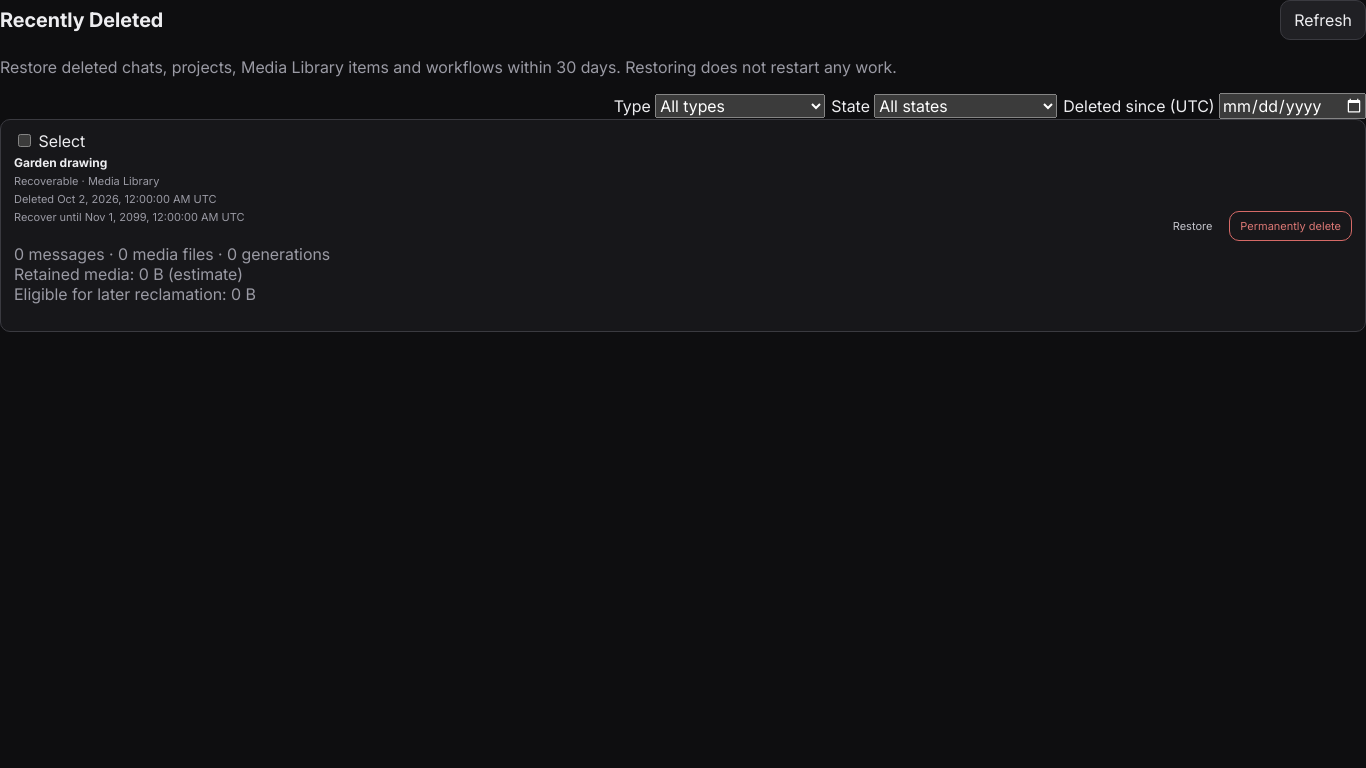
filters by type before requesting a page and describes library restoration
The image size is (1366, 768).
Expected: the text "Recoverable · Media Library" is shown, [14,174,159,188]
Select "Media Library items" in the dropdown labelled "Type" at (740, 106), box [655,94,825,118]
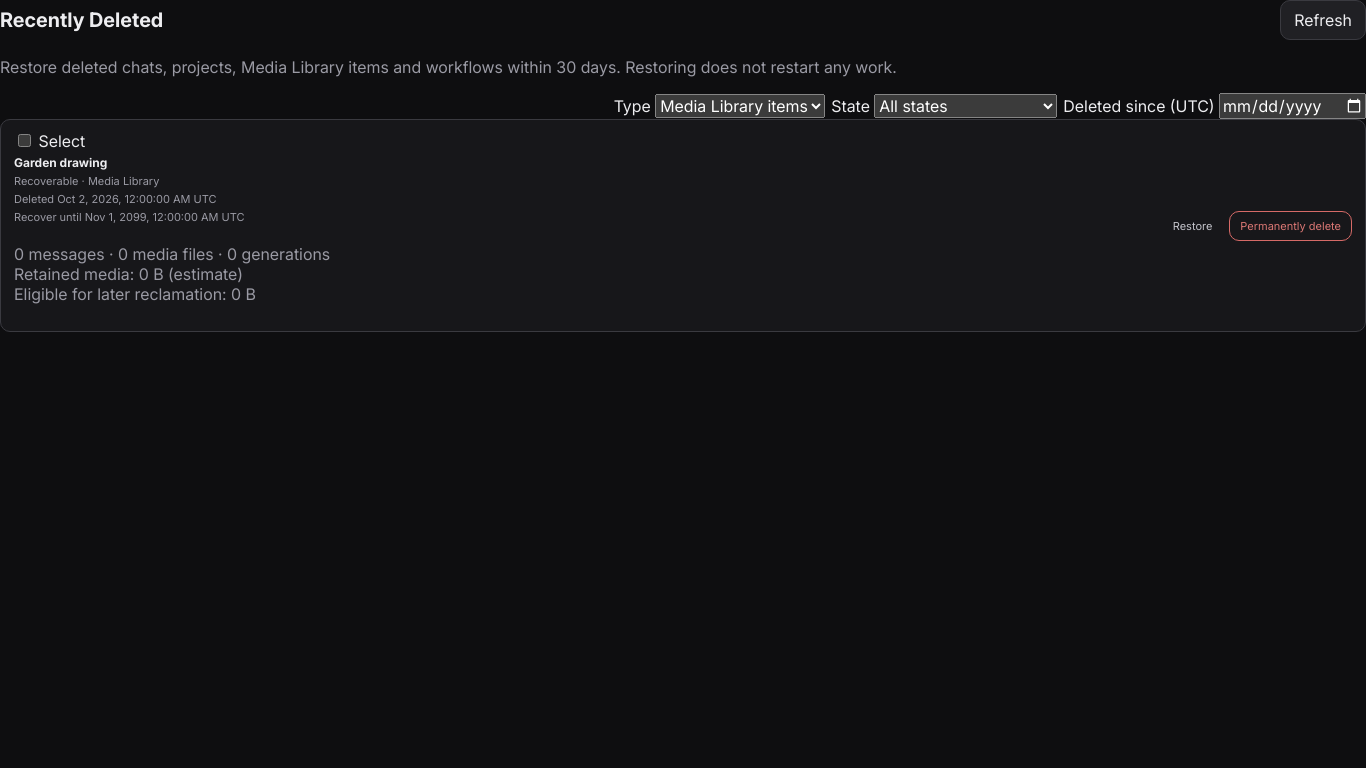
Click the button with aria-label "Restore Garden drawing" at (1193, 226), box [1162,210,1223,240]
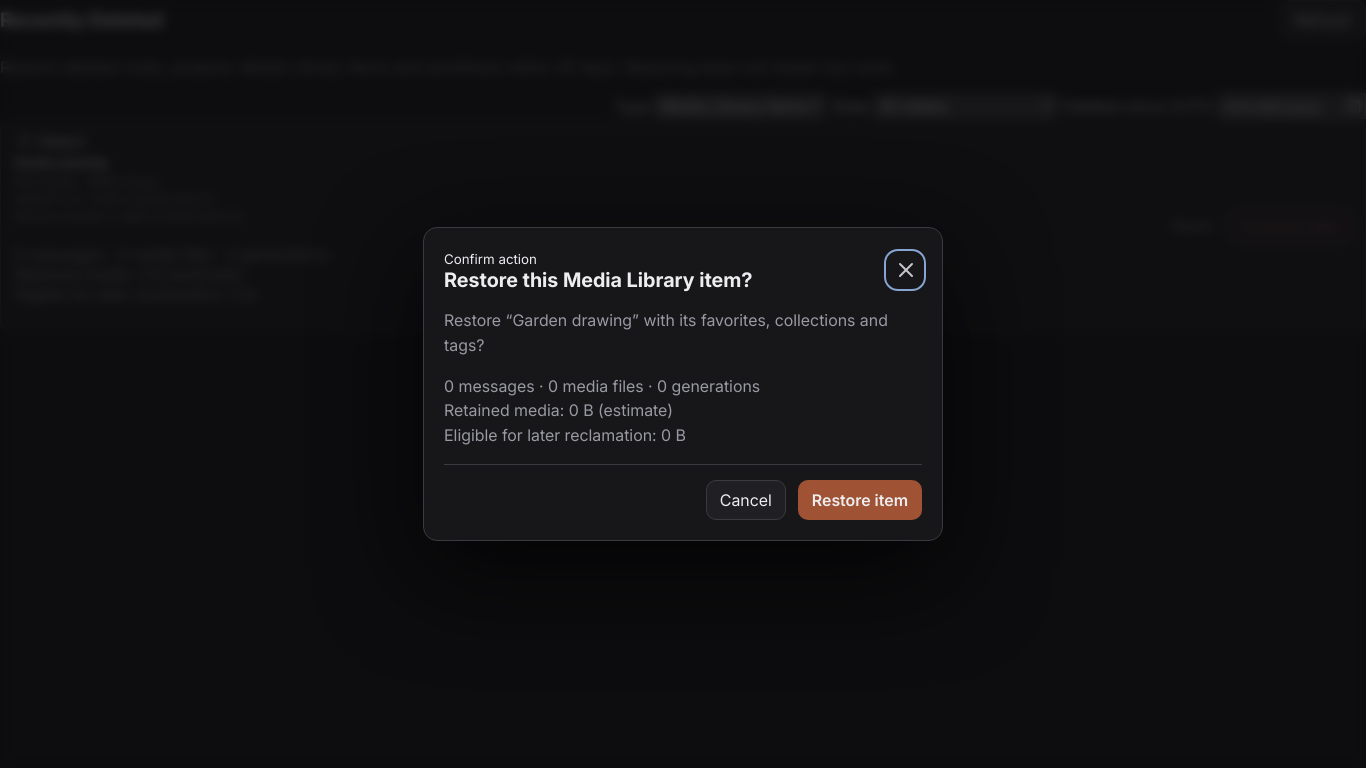
Expected: the heading "Restore this Media Library item?" is shown, [444,268,753,292]
Expected: the text "with its favorites, collections and tags" is shown, [444,310,888,355]
Click the button "Restore item" at (860, 500), box [798,480,922,520]
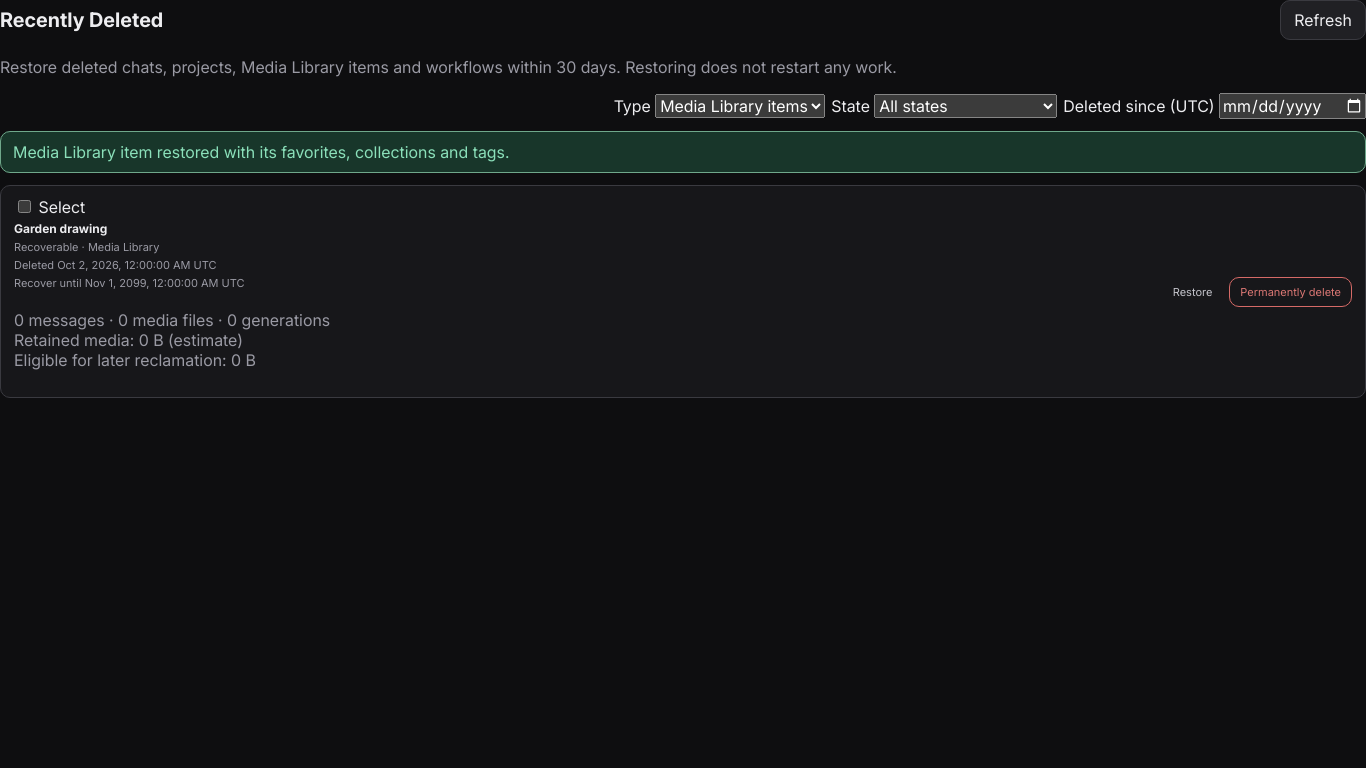
Expected: the text "Media Library item restored with its favorites, collections and tags." is shown, [0,131,1365,173]
